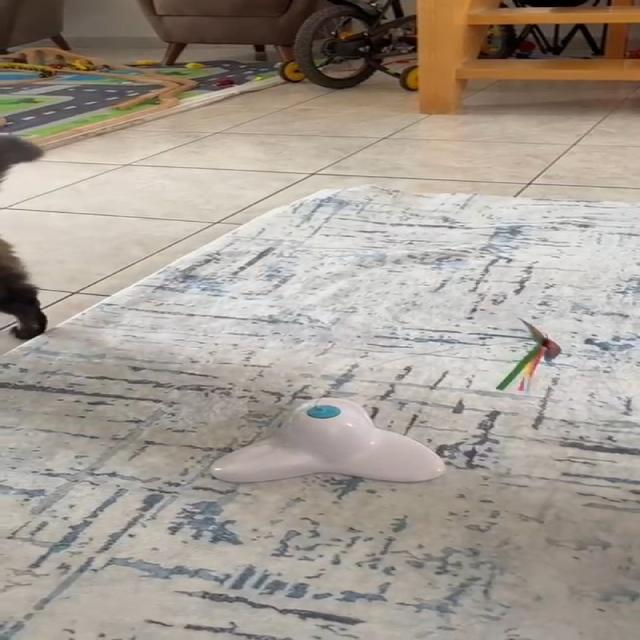authorized: (0, 132, 48, 340)
